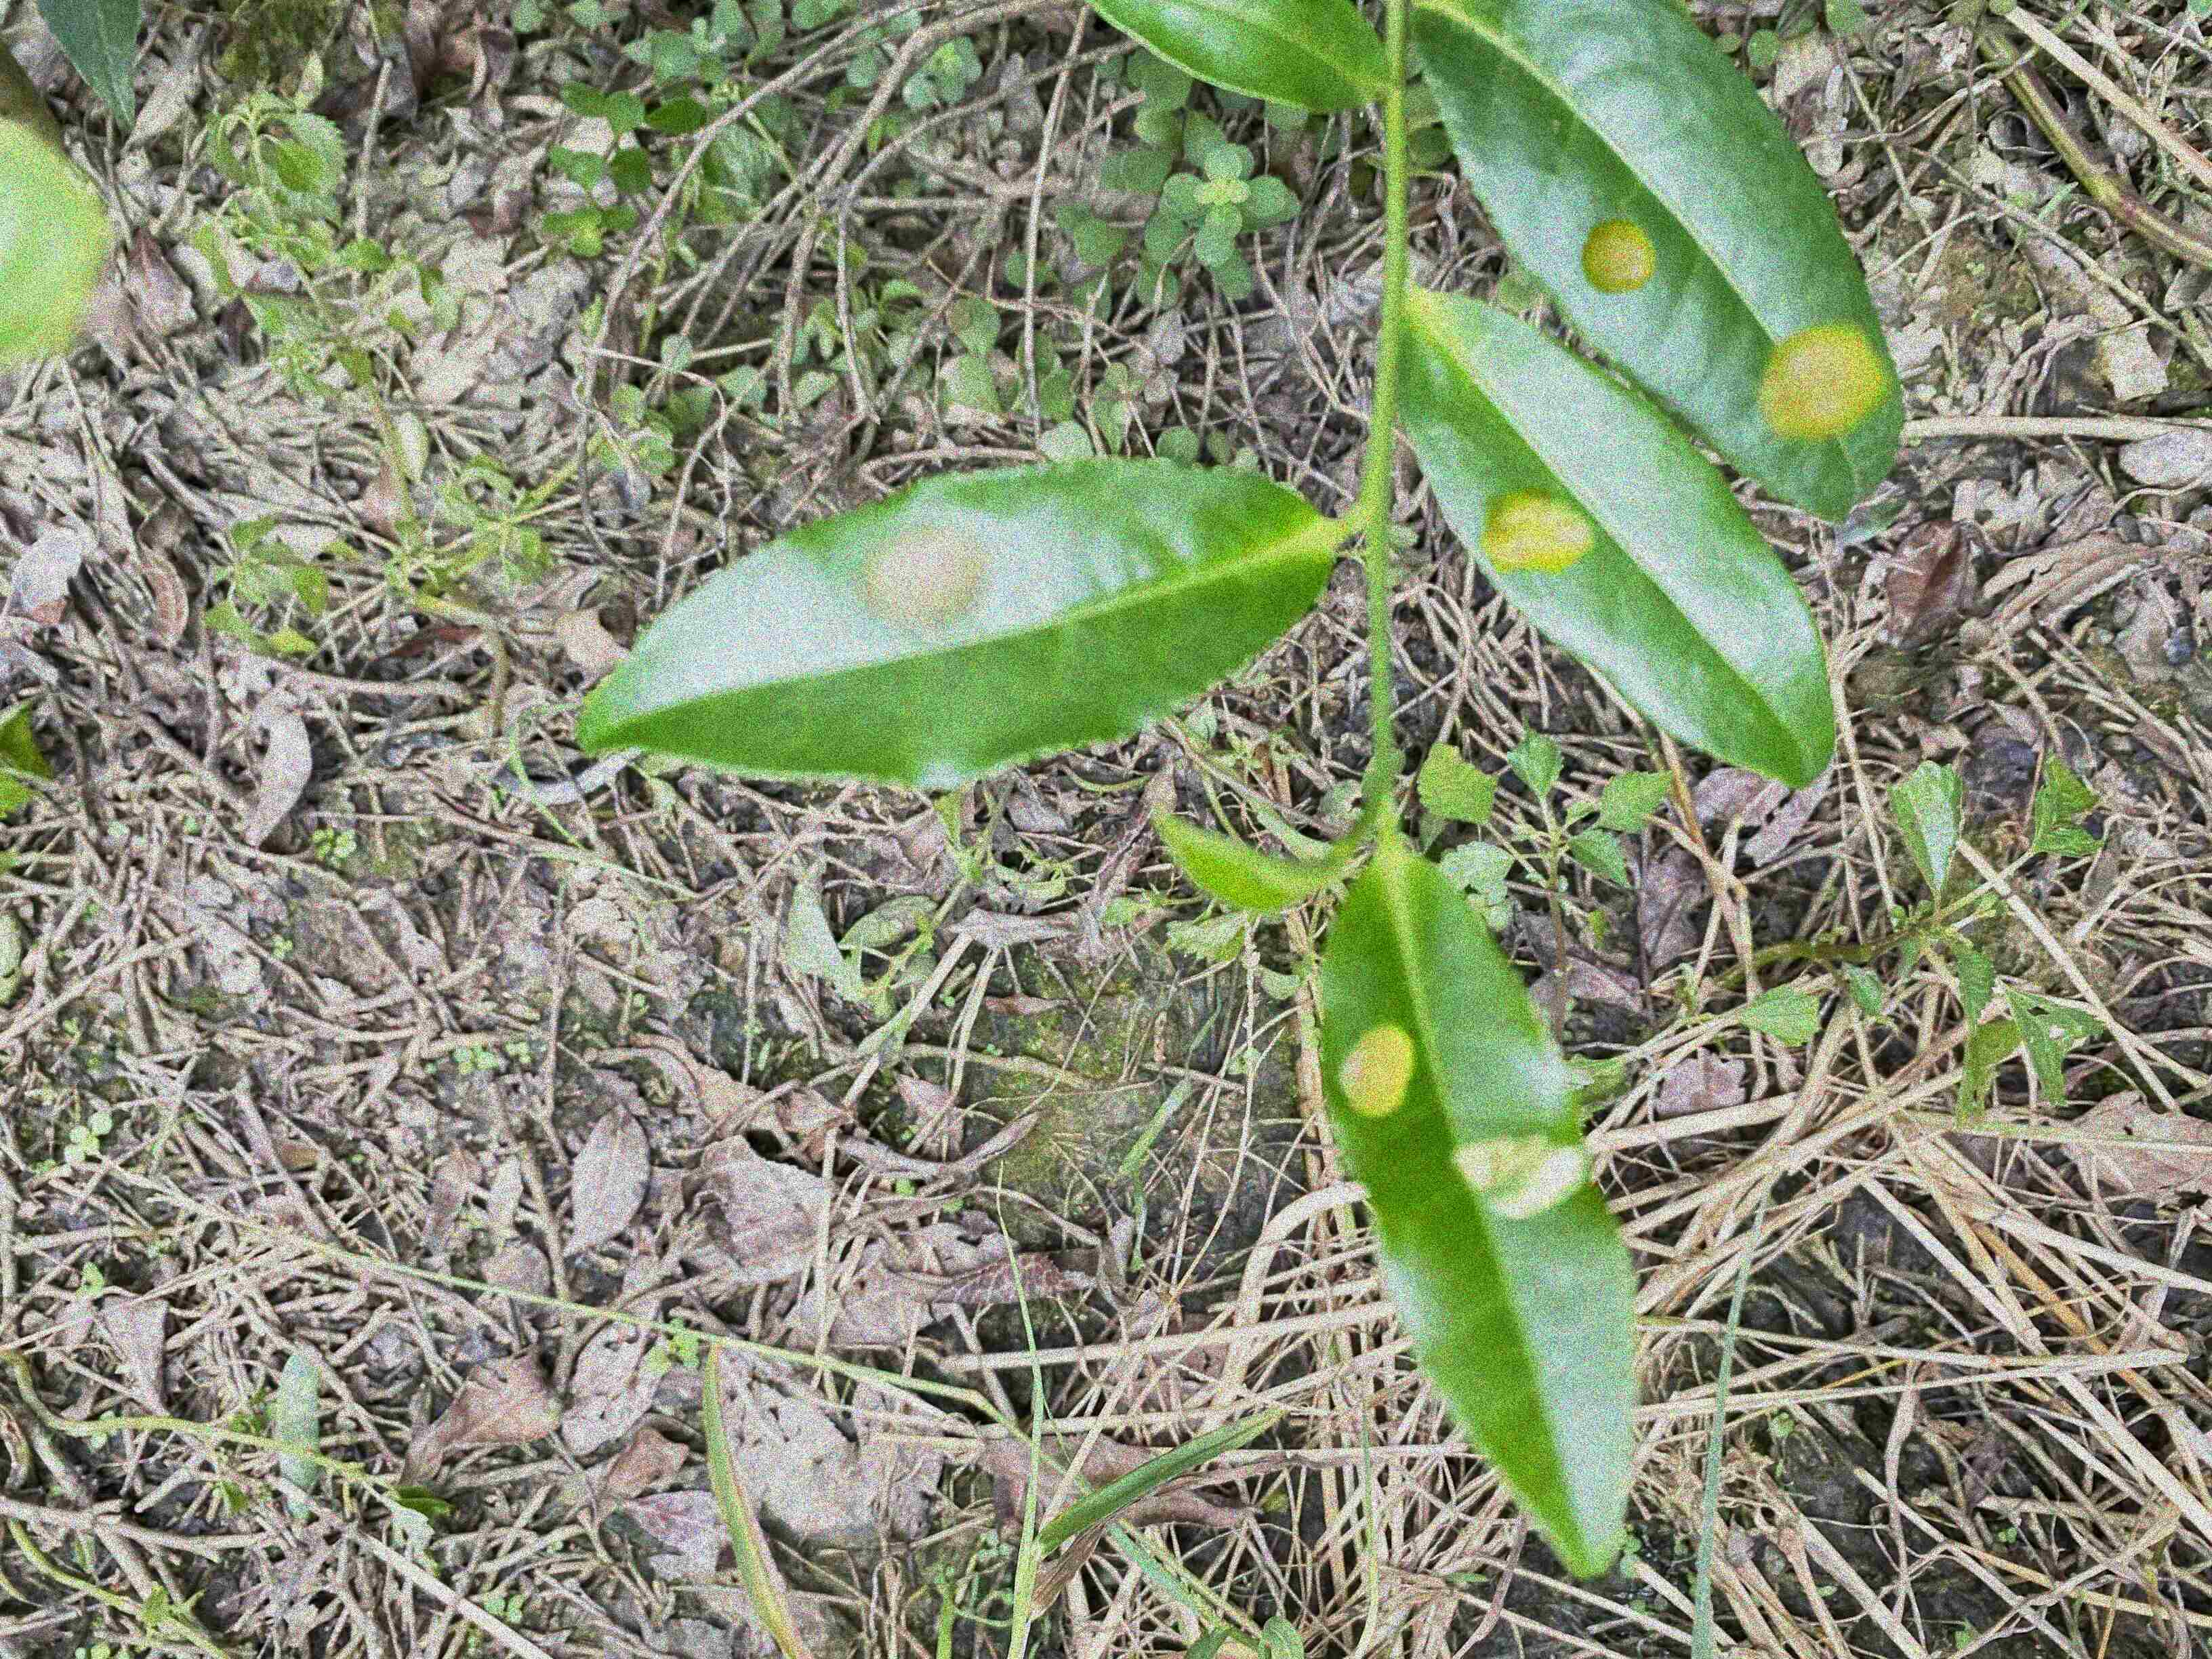chabing_high: (1404, 3, 1907, 526), (1320, 840, 1644, 1581)
chabing_low: (578, 455, 1339, 791), (1397, 288, 1832, 786)
